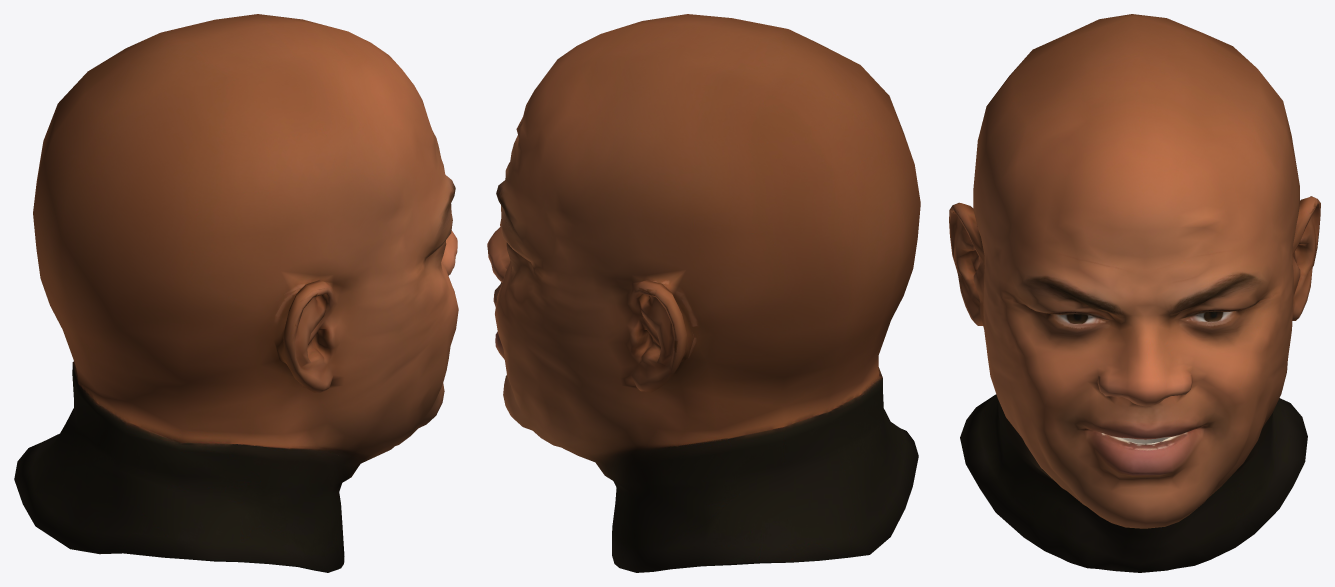
Rendered from charles_tripo_head.glb.
3 views of the same model, side by side, from view 1: azimuth 30°, elevation 25°; view 2: azimuth 150°, elevation 25°; view 3: azimuth 270°, elevation 25° (orthographic). The views are drawn at different scales.
Visible parts, largest first — view 1: tripo_node_f64da97f-1f31-49e7-90de-4fbd982d1693; view 2: tripo_node_f64da97f-1f31-49e7-90de-4fbd982d1693; view 3: tripo_node_f64da97f-1f31-49e7-90de-4fbd982d1693.
Part boxes in pixels (bbox=[...]): tripo_node_f64da97f-1f31-49e7-90de-4fbd982d1693: bbox=[14, 14, 458, 572]; tripo_node_f64da97f-1f31-49e7-90de-4fbd982d1693: bbox=[487, 14, 920, 572]; tripo_node_f64da97f-1f31-49e7-90de-4fbd982d1693: bbox=[949, 14, 1320, 572].
Size of the model in its own units: 0.7874 by 0.9798 by 0.6653.
1 material, 1 textured.
